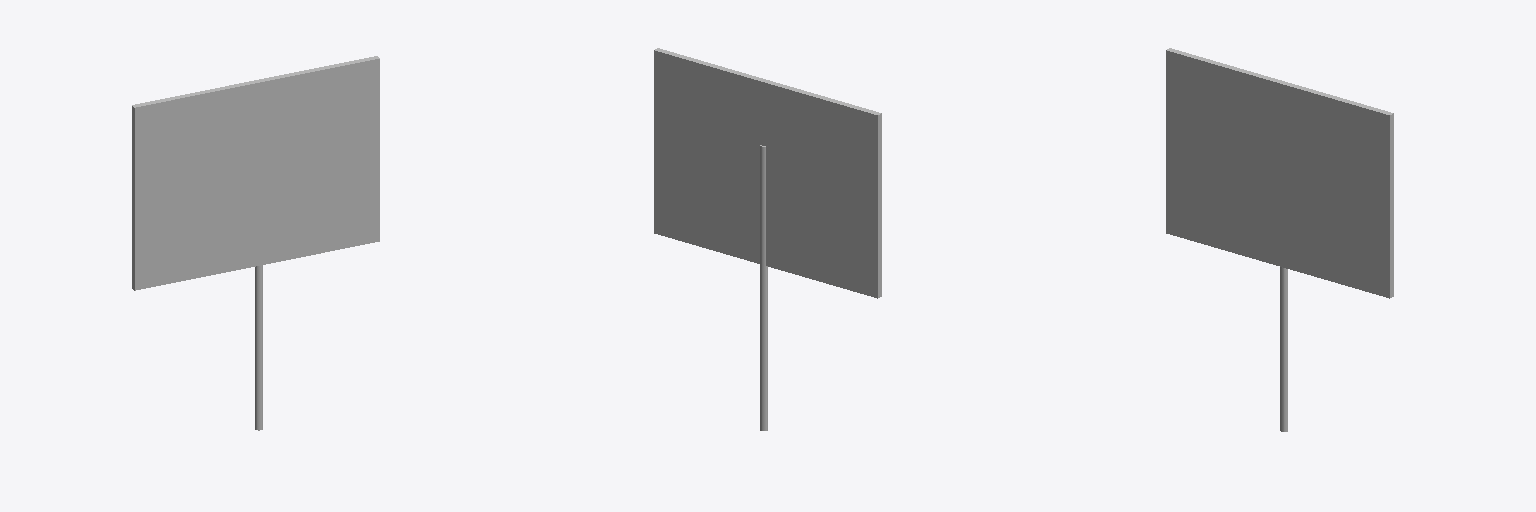
Rendered from board_26.obj.
The picture shows the model from 3 angles: view 1: azimuth 30°, elevation 25°; view 2: azimuth 150°, elevation 25°; view 3: azimuth 330°, elevation 25°; orthographic projection.
Parts seen in each view (by area): view 1: Cube.030_Cube.031, Cylinder.030; view 2: Cube.030_Cube.031, Cylinder.030; view 3: Cube.030_Cube.031, Cylinder.030.
Boxes of the visible parts, x1,y1,x2,y2 form: Cube.030_Cube.031: [132, 56, 379, 290]; Cylinder.030: [255, 265, 262, 430]; Cube.030_Cube.031: [654, 48, 881, 298]; Cylinder.030: [760, 145, 767, 430]; Cube.030_Cube.031: [1166, 48, 1393, 298]; Cylinder.030: [1280, 267, 1287, 431].
Bounding box in the file's own units: 0.1213 × 0.1717 × 0.0127.